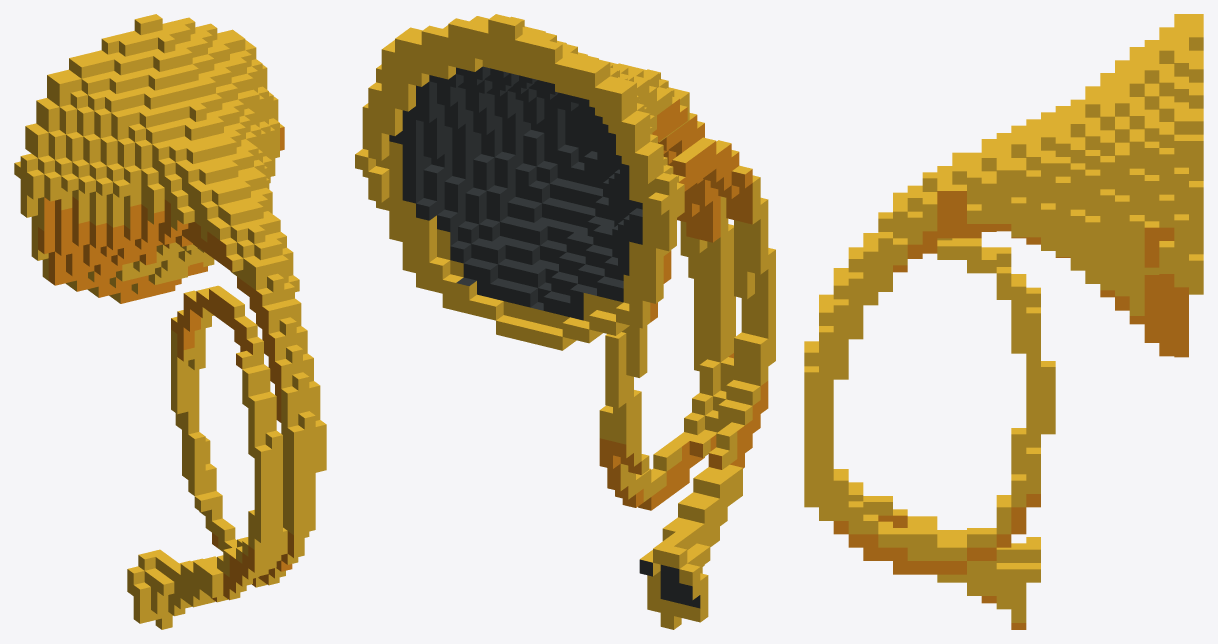
File: LD51Enemytestchiptune.fbx
3 renders of one model, left to right at view 1: azimuth 30°, elevation 25°; view 2: azimuth 150°, elevation 25°; view 3: azimuth 270°, elevation 25°, orthographic. The views are drawn at different scales.
Parts seen in each view (by area): view 1: Horn.001; view 2: Horn.001; view 3: Horn.001.
Boxes of the visible parts, <box> form: Horn.001: <box>14,14,326,629</box>; Horn.001: <box>355,14,775,629</box>; Horn.001: <box>804,14,1203,629</box>.
Size of the model in its own units: 158 by 186 by 323.
